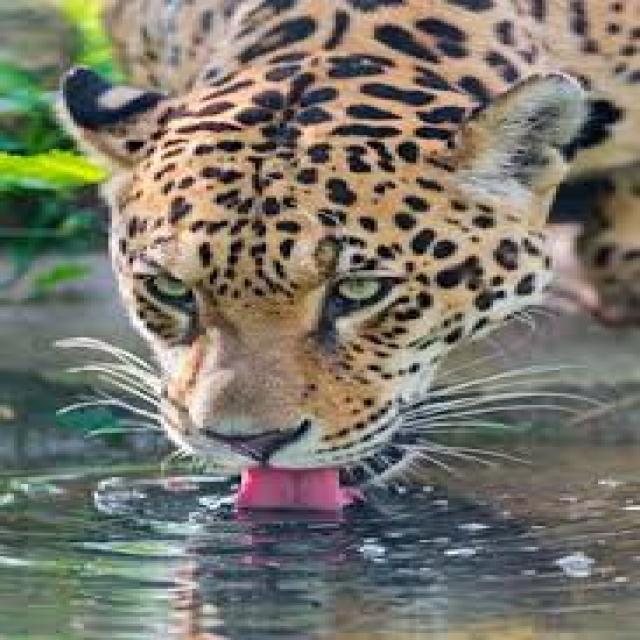Jaguar: (59, 0, 640, 519)
